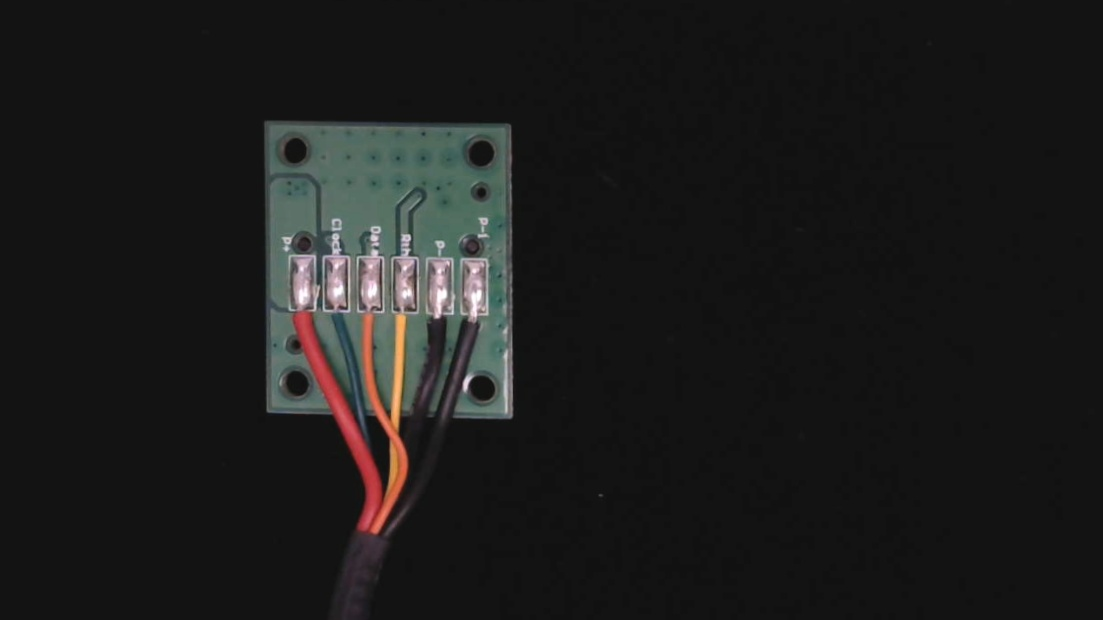Black: (413, 300, 443, 364)
Black1: (450, 299, 479, 357)
Green: (317, 298, 345, 352)
Orange: (346, 297, 376, 351)
Red: (282, 299, 312, 353)
Yellow: (381, 299, 411, 363)
